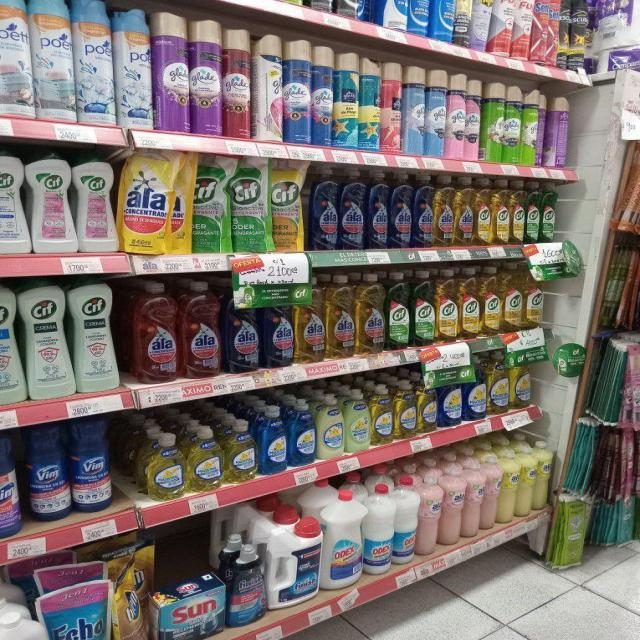ala_conc_amarillo: (326, 274, 355, 359), (295, 284, 325, 364), (356, 272, 385, 354), (434, 175, 454, 248), (454, 176, 474, 247)
ala_conc_azul: (224, 287, 260, 373), (309, 166, 338, 250), (339, 167, 365, 251), (262, 303, 294, 368), (366, 170, 389, 249), (389, 171, 412, 249), (412, 173, 433, 248)
ala_conc_rojo: (130, 281, 179, 384), (180, 280, 222, 379)
ala_crem_amarillo: (501, 449, 518, 523), (519, 443, 535, 518), (536, 440, 552, 512)
ala_crem_rosado: (442, 460, 464, 548), (419, 476, 441, 556), (463, 457, 483, 540), (479, 454, 500, 531)
ala_sachet_amarillo: (120, 148, 186, 254)
cif_conc_bot_amarilla: (436, 268, 458, 341), (459, 266, 480, 338), (481, 265, 502, 336), (503, 262, 523, 332), (524, 262, 544, 330), (474, 176, 491, 246), (492, 178, 509, 245), (510, 179, 525, 245)
cif_conc_botella_verde: (386, 271, 410, 350), (411, 269, 435, 346), (541, 181, 557, 243), (526, 180, 540, 244)
cif_conc_sachet_amarillo: (271, 159, 305, 252)
cif_conc_sachet_verde: (191, 152, 230, 253), (231, 155, 270, 253)
magistral_con_amarillo: (145, 432, 185, 500), (187, 425, 223, 492), (224, 418, 256, 483), (487, 350, 509, 416), (371, 384, 394, 445), (394, 381, 416, 438), (510, 356, 532, 410), (418, 384, 437, 433)
magistral_con_azul: (258, 404, 287, 474), (288, 398, 316, 467), (464, 371, 486, 421), (438, 382, 462, 427)
magistral_con_crema: (317, 393, 344, 460), (345, 388, 370, 452)
